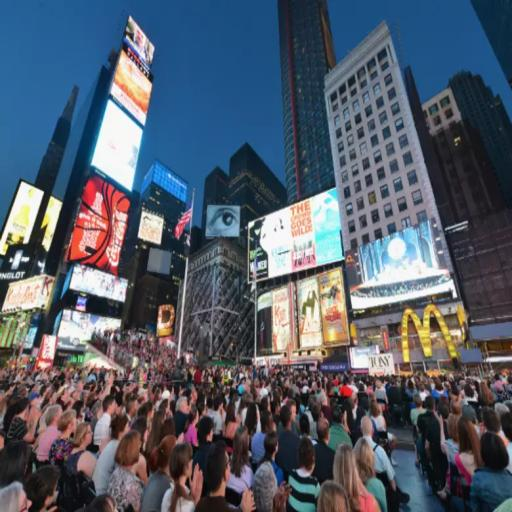building_Detection: (325, 22, 463, 371), (38, 40, 188, 282), (449, 72, 511, 207), (472, 0, 511, 87), (99, 88, 120, 245), (190, 226, 202, 254)
person_Detection: (41, 404, 82, 490), (121, 432, 145, 510)
